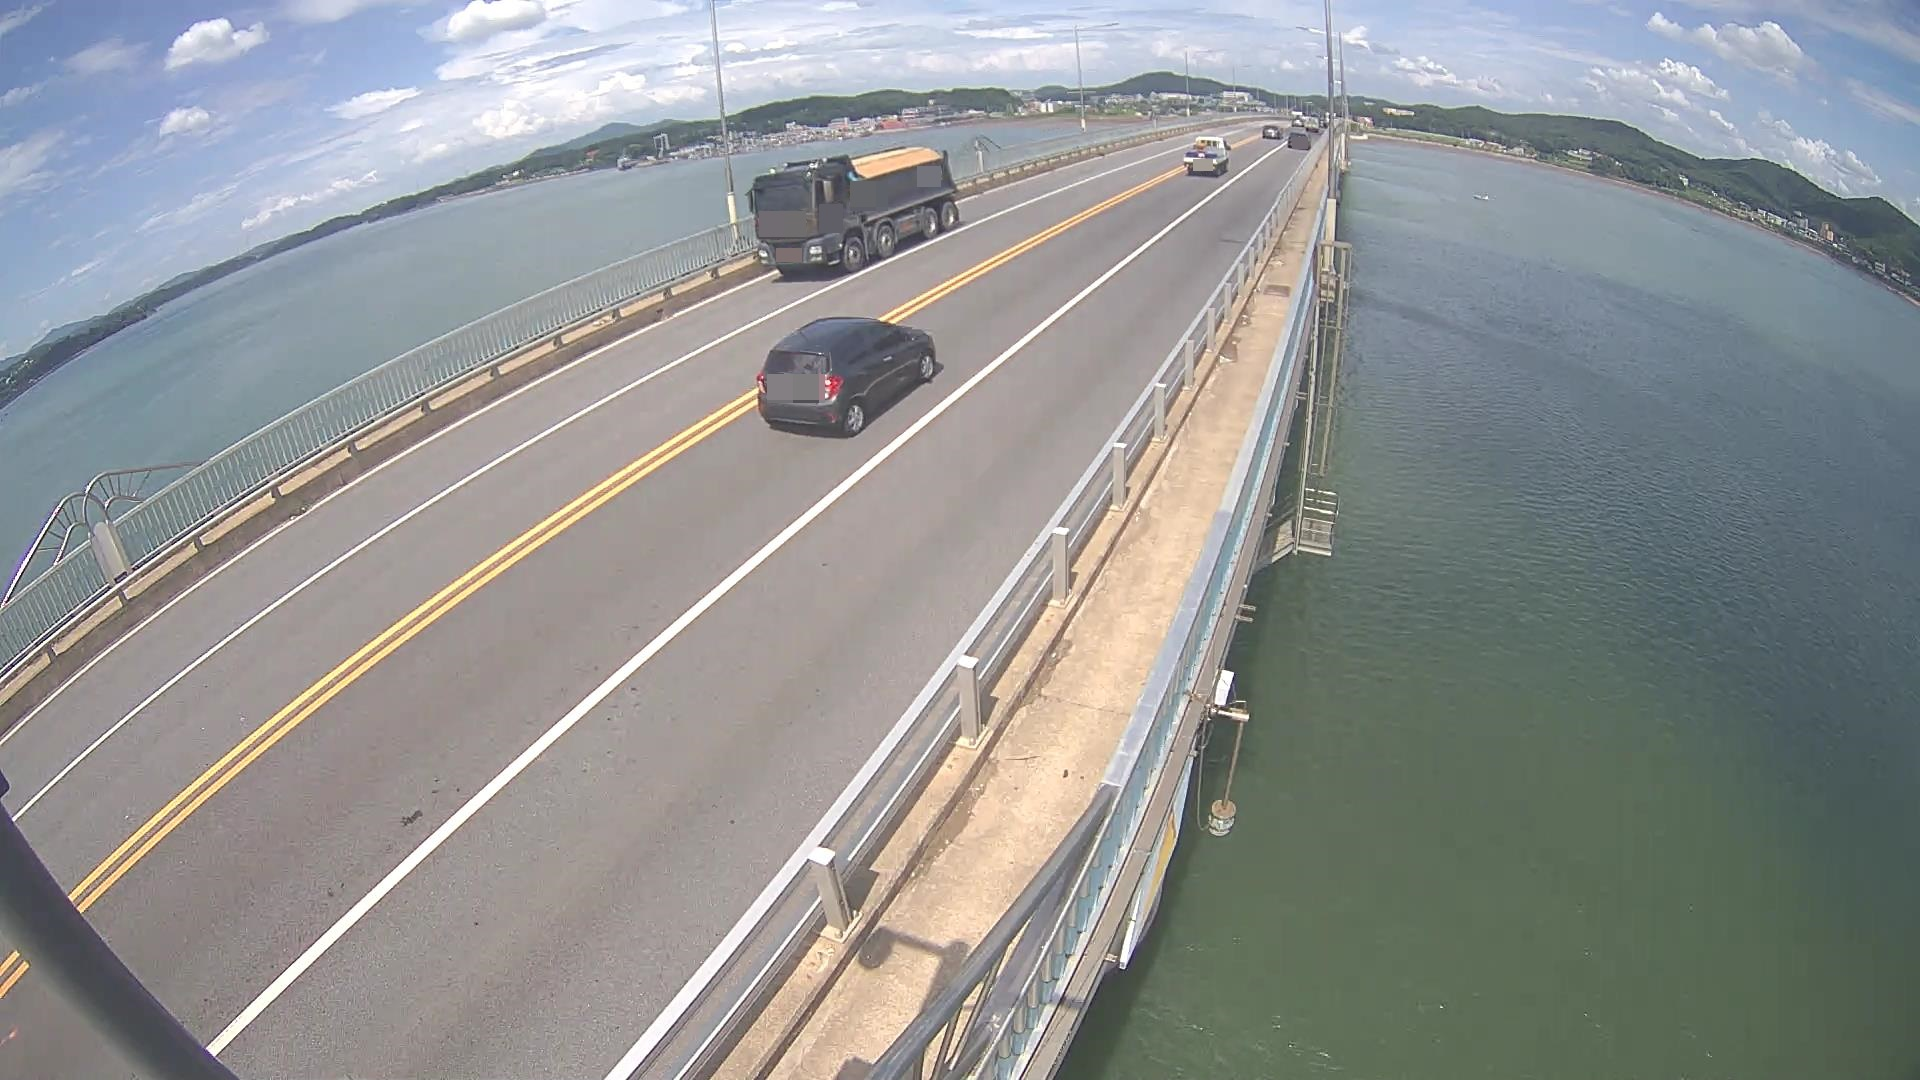정상차량: (745, 146, 961, 272)
